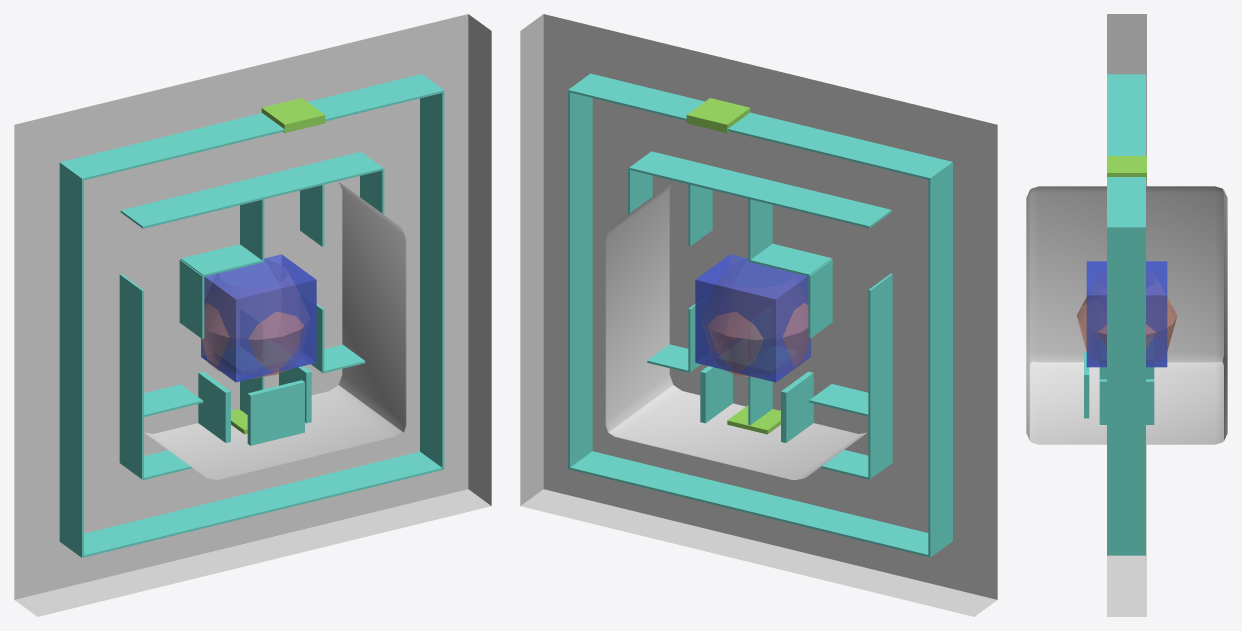
Rendered from Playground.glb.
3 renders of one model, left to right at view 1: azimuth 30°, elevation 25°; view 2: azimuth 150°, elevation 25°; view 3: azimuth 270°, elevation 25°, orthographic. The views are drawn at different scales.
Parts seen in each view (by area): view 1: Cube.004, Curve.001, Cube, Plane, Plane.001, ND — Panel.001, ND — Sketch, destination.003; view 2: Cube.004, Curve.001, Cube, Plane, Plane.001, ND — Sketch, ND — Panel.001, destination.003, destination; view 3: Cube, Curve.001, Cube.004, Plane, Plane.001, ND — Sketch, ND — Panel.001, destination.003.
Part boxes in pixels (left/top/right/bottom): Cube.004: left=14, top=14, right=491, bottom=616; Curve.001: left=59, top=74, right=444, bottom=557; Cube: left=145, top=182, right=406, bottom=479; Plane: left=201, top=254, right=316, bottom=382; Plane.001: left=201, top=254, right=316, bottom=381; ND — Panel.001: left=198, top=366, right=311, bottom=445; ND — Sketch: left=202, top=271, right=309, bottom=378; destination.003: left=261, top=98, right=325, bottom=132; Cube.004: left=520, top=14, right=997, bottom=616; Curve.001: left=568, top=73, right=952, bottom=557; Cube: left=605, top=182, right=866, bottom=479; Plane: left=695, top=254, right=810, bottom=382; Plane.001: left=695, top=254, right=810, bottom=381; ND — Sketch: left=702, top=271, right=809, bottom=378; ND — Panel.001: left=700, top=366, right=813, bottom=442; destination.003: left=686, top=98, right=750, bottom=132; destination: left=727, top=405, right=780, bottom=434; Cube: left=1026, top=186, right=1227, bottom=444; Curve.001: left=1107, top=74, right=1145, bottom=555; Cube.004: left=1107, top=14, right=1146, bottom=616; Plane: left=1086, top=261, right=1167, bottom=367; Plane.001: left=1087, top=261, right=1166, bottom=366; ND — Sketch: left=1076, top=280, right=1177, bottom=350; ND — Panel.001: left=1084, top=352, right=1154, bottom=424; destination.003: left=1107, top=156, right=1146, bottom=180.
Size of the model in its own units: 22.5 by 22.5 by 10.
